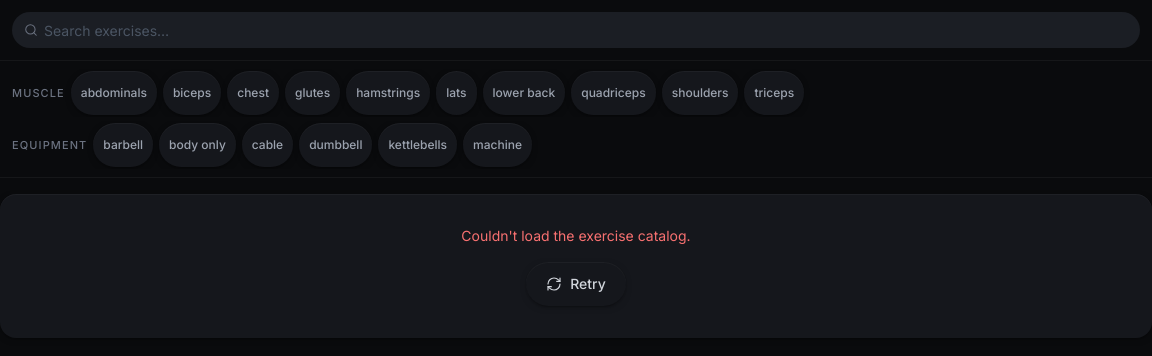
Test case: ExerciseLibrary › P29: catalog load failure vs empty search › shows a couldn't-load error with retry on a network failure, distinct from 'no results'
Expected: the element with test id "error-retry" shows "Couldn't load the exercise catalog.", [461, 227, 691, 244]
Click the button with test id "error-retry-btn": (576, 284) [526, 262, 626, 306]
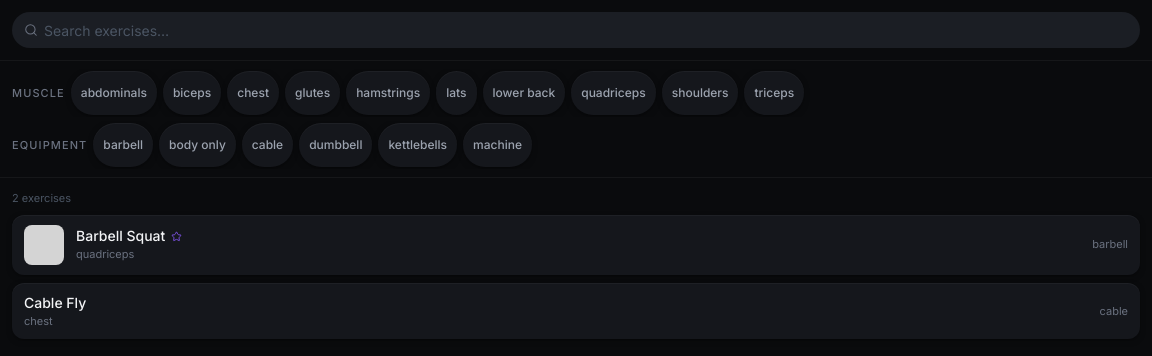
Expected: the button with test id "exercise-row-barbell-squat" is shown, [12, 214, 1140, 274]
